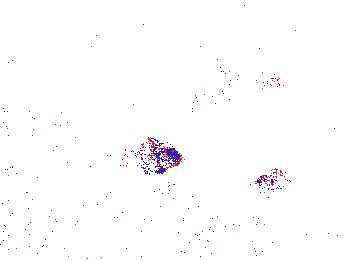X-ray fish: (119, 132, 185, 167), (214, 209, 275, 245), (151, 173, 204, 203), (239, 63, 289, 94), (254, 163, 294, 190)
